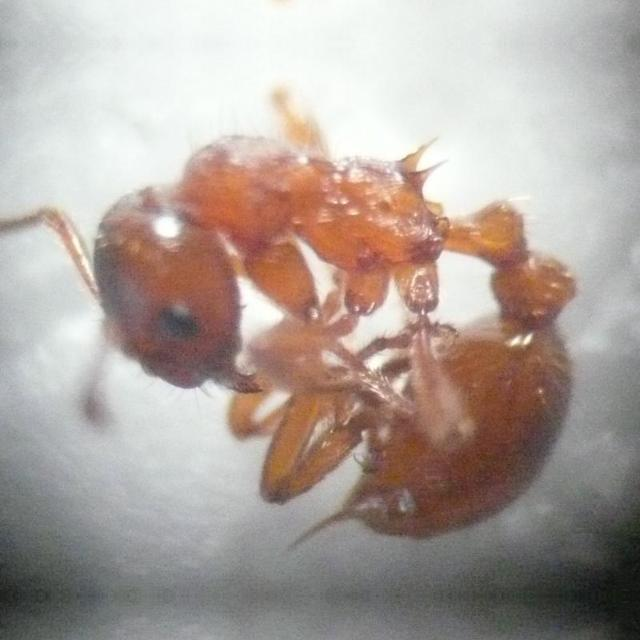Myrmica: (70, 102, 628, 550)
